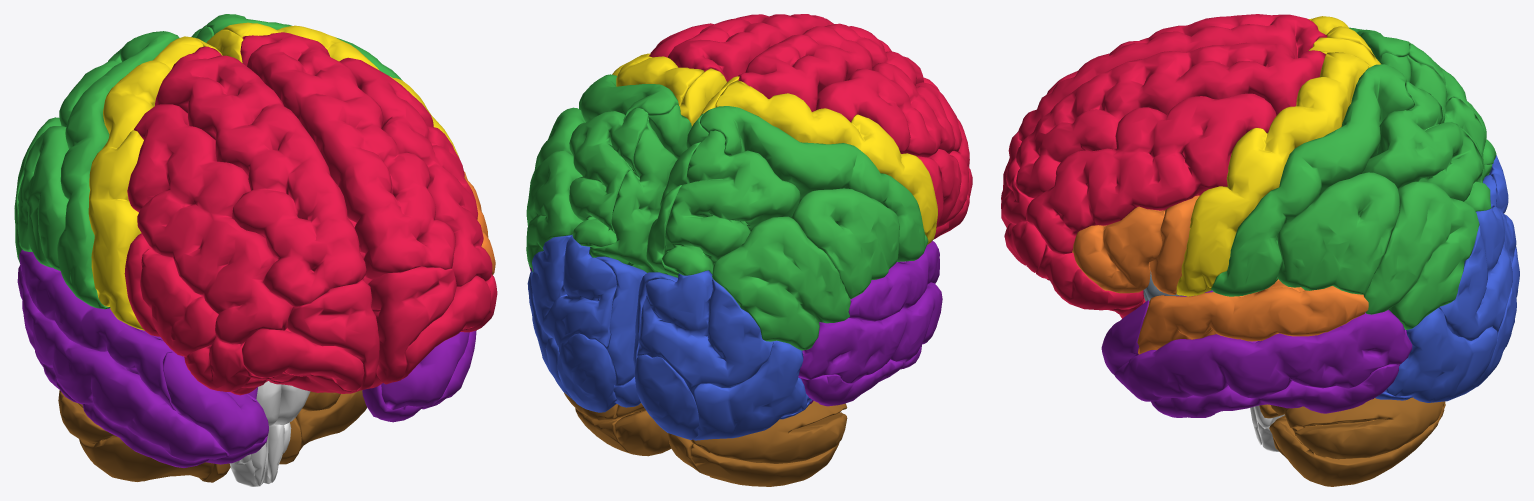
Rendered from brain.glb.
The picture shows the model from 3 angles, left to right: view 1: azimuth 30°, elevation 25°; view 2: azimuth 150°, elevation 25°; view 3: azimuth 270°, elevation 25°; orthographic projection. The views are drawn at different scales.
Parts seen in each view (by area): view 1: prefrontal_R, prefrontal_L, memory_R, parietal_R, motor_R, memory_L, cerebellum_R, cerebellum_L, motor_L, brainstem_L, brainstem_R, parietal_L (+1 smaller); view 2: parietal_R, occipital_R, parietal_L, prefrontal_R, occipital_L, memory_R, cerebellum_R, motor_R, prefrontal_L, motor_L, cerebellum_L; view 3: parietal_L, prefrontal_L, memory_L, language_L, motor_L, occipital_L, cerebellum_L, prefrontal_R, parietal_R, motor_R, occipital_R, brainstem_L.
Part boxes in pixels (<box>): prefrontal_R: <box>124,46,379,395</box>; prefrontal_L: <box>240,32,497,388</box>; memory_R: <box>17,249,268,467</box>; parietal_R: <box>14,31,179,309</box>; motor_R: <box>88,36,222,330</box>; memory_L: <box>362,330,476,422</box>; cerebellum_R: <box>58,390,230,482</box>; cerebellum_L: <box>279,390,366,464</box>; motor_L: <box>206,22,459,157</box>; brainstem_L: <box>263,384,310,484</box>; brainstem_R: <box>229,381,281,486</box>; parietal_L: <box>191,14,402,80</box>; parietal_R: <box>646,106,928,350</box>; occipital_R: <box>633,270,811,440</box>; parietal_L: <box>526,74,691,272</box>; prefrontal_R: <box>738,23,972,239</box>; occipital_L: <box>527,234,646,412</box>; memory_R: <box>798,240,942,406</box>; cerebellum_R: <box>668,401,847,486</box>; motor_R: <box>700,76,937,244</box>; prefrontal_L: <box>649,14,833,81</box>; motor_L: <box>612,53,726,126</box>; cerebellum_L: <box>564,392,671,456</box>; parietal_L: <box>1211,64,1491,329</box>; prefrontal_L: <box>1001,42,1325,318</box>; memory_L: <box>1101,290,1412,417</box>; language_L: <box>1072,195,1368,354</box>; motor_L: <box>1176,51,1371,296</box>; occipital_L: <box>1375,203,1516,402</box>; cerebellum_L: <box>1259,397,1445,486</box>; prefrontal_R: <box>1003,14,1327,188</box>; parietal_R: <box>1349,27,1496,180</box>; motor_R: <box>1308,16,1380,66</box>; occipital_R: <box>1483,155,1519,297</box>; brainstem_L: <box>1250,405,1284,452</box>.
Bounding box in the file's own units: 163 × 174 × 200.
